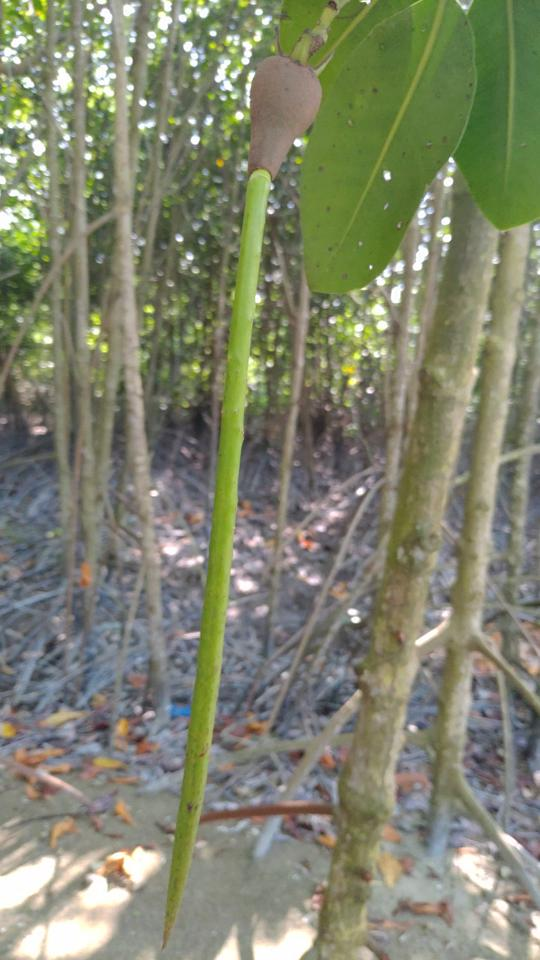setengah matang: (159, 30, 345, 952)
